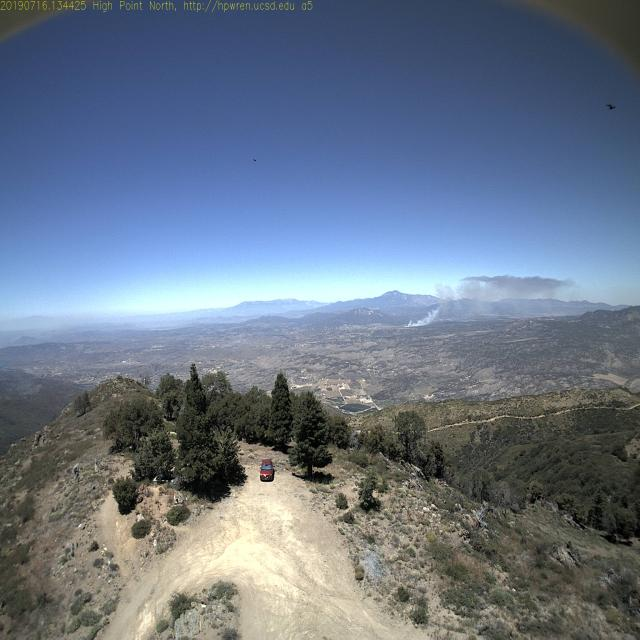smoke: (395, 303, 439, 339)
